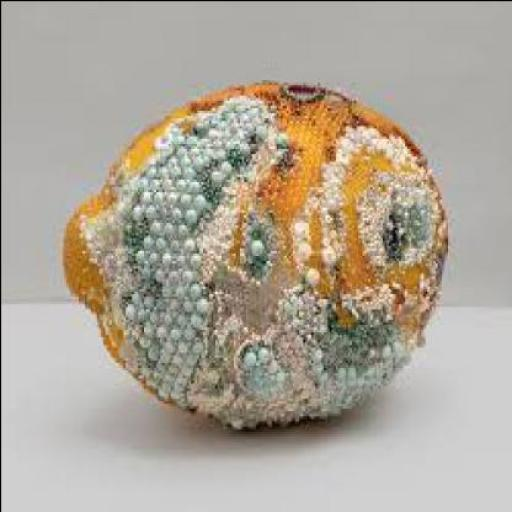biodegradable: (62, 76, 446, 428)
